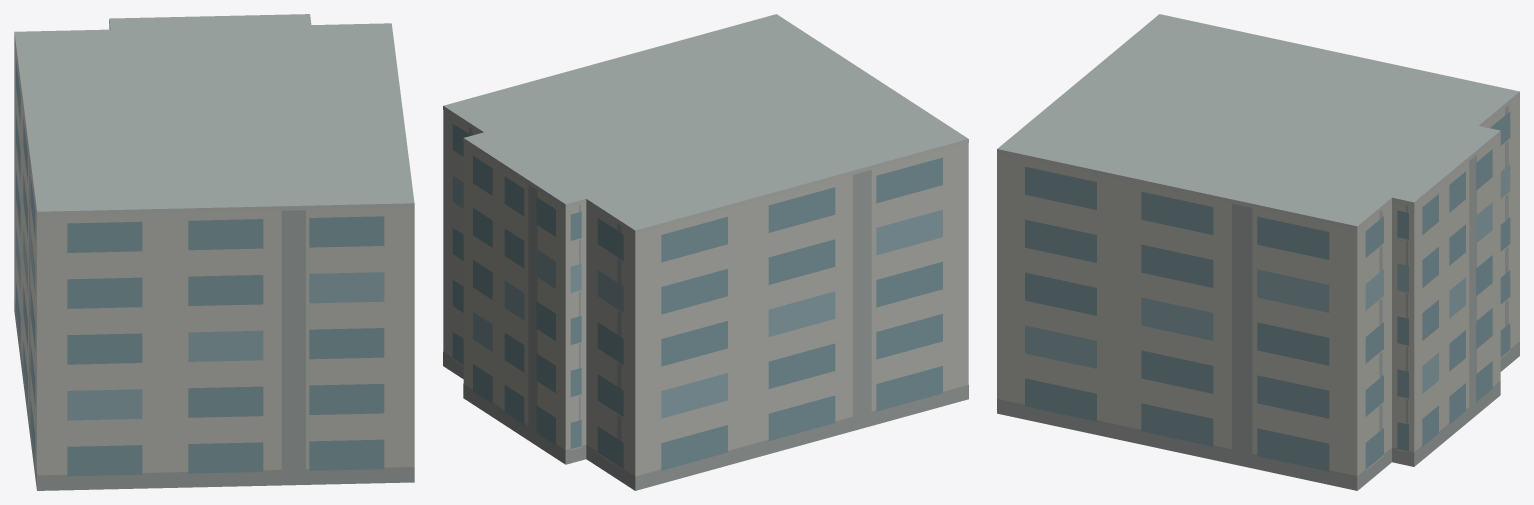
The model's file is residential-e25f7c65-bd28-4777-8bf2-777d6d5378bb.glb.
3 views of the same model, side by side, from view 1: azimuth 30°, elevation 25°; view 2: azimuth 150°, elevation 25°; view 3: azimuth 270°, elevation 25° (orthographic). The views are drawn at different scales.
Visible parts, largest first — view 1: residential-e25f7c65-bd28-4777-8bf2-777d6d5378bb.tmp; view 2: residential-e25f7c65-bd28-4777-8bf2-777d6d5378bb.tmp; view 3: residential-e25f7c65-bd28-4777-8bf2-777d6d5378bb.tmp.
Boxes of the visible parts, left/top/right/bottom form: residential-e25f7c65-bd28-4777-8bf2-777d6d5378bb.tmp: left=14, top=14, right=414, bottom=490; residential-e25f7c65-bd28-4777-8bf2-777d6d5378bb.tmp: left=443, top=14, right=968, bottom=490; residential-e25f7c65-bd28-4777-8bf2-777d6d5378bb.tmp: left=997, top=14, right=1519, bottom=490.
Bounding box in the file's own units: 26.26 × 15.25 × 27.32.
